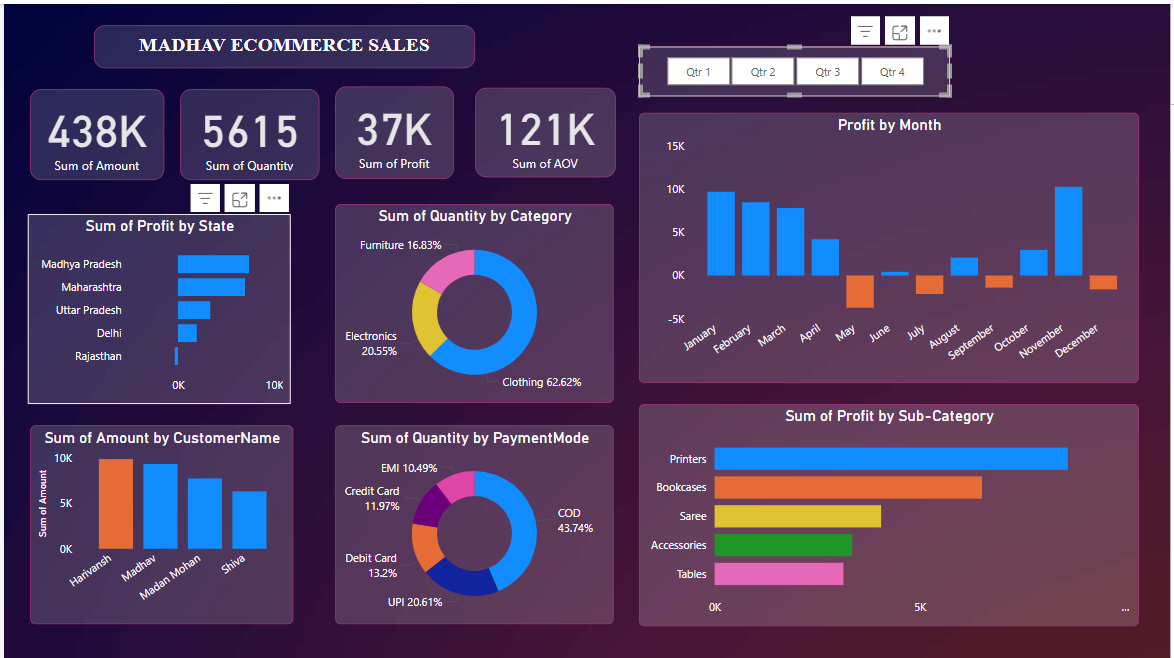

The dashboard page shown, as its layout file describes it:
{"tool":"powerbi","page":{"name":"Page 1","canvas":[1280,720],"ordinal":0},"visuals":[{"type":"textbox","box":[98.6,22.9,418.6,47.1],"z":0},{"type":"columnChart","title":"Profit by Month","fields":{"Y":["Details.Profit"],"Category":["Orders.Order Date.Variation.Date Hierarchy.Month"]},"box":[697.1,120,548.6,297.1],"z":1000},{"type":"barChart","fields":{"Category":["Details.Sub-Category"],"Y":["Details.Profit"]},"box":[697.1,438.6,548.6,244.3],"z":2000},{"type":"donutChart","fields":{"Category":["Details.Category"],"Y":["Details.Quantity"]},"box":[364.3,220,305.7,218.6],"z":3000},{"type":"donutChart","fields":{"Category":["Details.PaymentMode"],"Y":["Details.Quantity"]},"box":[364.3,462.9,305.7,218.6],"z":4000},{"type":"card","fields":{"Values":["Details.Amount"]},"box":[28.6,92.9,147.1,100],"z":5000},{"type":"card","fields":{"Values":["Details.Quantity"]},"box":[192.9,92.9,152.9,100],"z":6000},{"type":"card","fields":{"Values":["Details.Profit"]},"box":[364.3,90,130,101.4],"z":7000},{"type":"card","fields":{"Values":["Details.AOV"]},"box":[517.1,91.4,154.3,98.6],"z":8000},{"type":"barChart","fields":{"Category":["Orders.State"],"Y":["Details.Profit"]},"box":[25.7,230,288.6,208.6],"z":9000},{"type":"columnChart","fields":{"Category":["Orders.CustomerName"],"Y":["Details.Amount"]},"box":[28.6,462.9,288.6,218.6],"z":10000},{"type":"slicer","fields":{"Values":["Orders.Order Date.Variation.Date Hierarchy.Quarter"]},"box":[697.1,47.1,341.4,54.3],"z":11000}]}

Visuals, with their boxes in screenshot pixels (x1, y1, x2, y2), scaled from the page's 1280x720 canvas onto the 1174x658 screenshot:
textbox: 90 21 474 64
"Profit by Month" columnChart: 639 110 1143 381
barChart - Details.Sub-Category x Details.Profit: 639 401 1143 624
donutChart - Details.Category x Details.Quantity: 334 201 615 401
donutChart - Details.PaymentMode x Details.Quantity: 334 423 615 623
card - Details.Amount: 26 85 161 176
card - Details.Quantity: 177 85 317 176
card - Details.Profit: 334 82 453 175
card - Details.AOV: 474 84 616 174
barChart - Orders.State x Details.Profit: 24 210 288 401
columnChart - Orders.CustomerName x Details.Amount: 26 423 291 623
slicer - Orders.Order Date.Variation.Date Hierarchy.Quarter: 639 43 952 93
